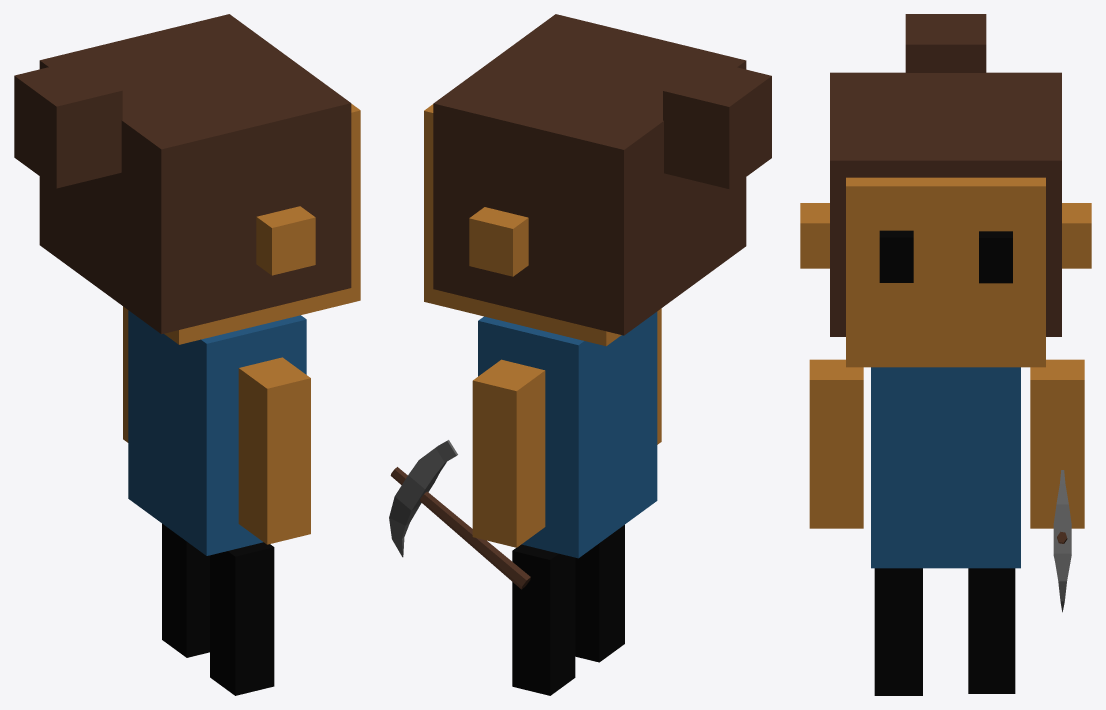
Rendered from Chara-F_pierre.fbx.
3 views of the same model, side by side, from view 1: azimuth 30°, elevation 25°; view 2: azimuth 150°, elevation 25°; view 3: azimuth 270°, elevation 25° (orthographic). The views are drawn at different scales.
Visible parts, largest first — view 1: Cube.041; view 2: Cube.041; view 3: Cube.041.
Boxes of the visible parts, x1=… form: Cube.041: x1=14, y1=14, x2=360, y2=695; Cube.041: x1=389, y1=14, x2=771, y2=695; Cube.041: x1=800, y1=14, x2=1091, y2=695.
Bounding box in the file's own units: 85.34 × 170 × 76.1.
